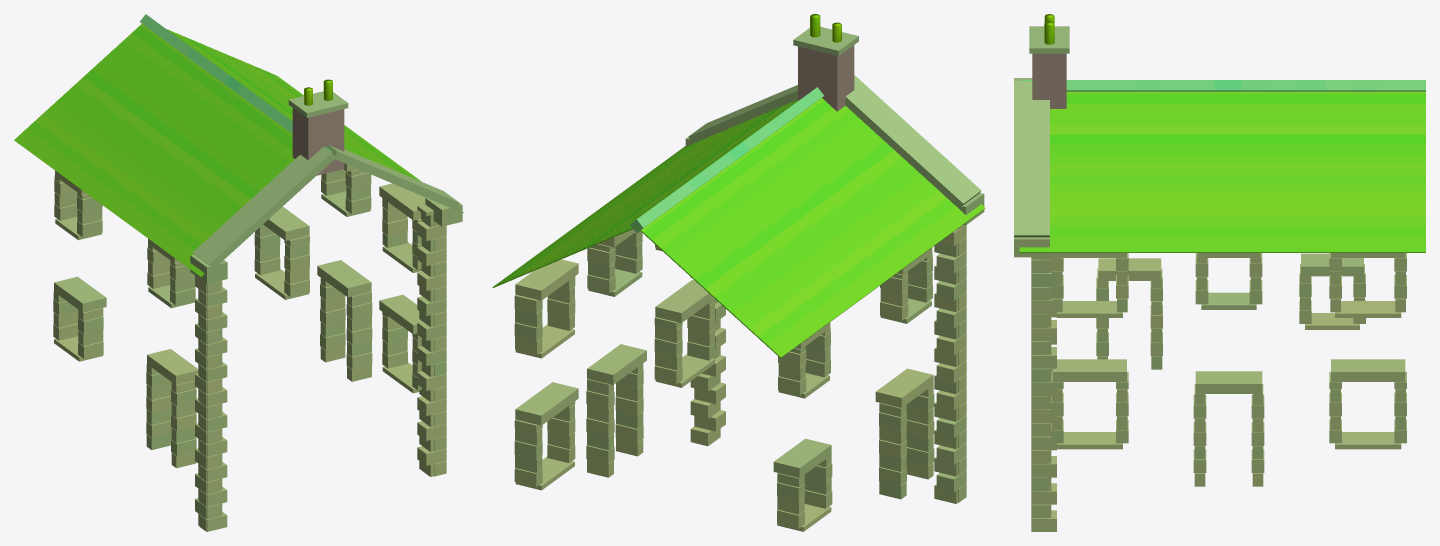
The model's file is SM_Bld_201_Stone.glb.
The picture shows the model from 3 angles, left to right: view 1: azimuth 30°, elevation 25°; view 2: azimuth 150°, elevation 25°; view 3: azimuth 270°, elevation 25°; orthographic projection. The views are drawn at different scales.
Parts seen in each view (by area): view 1: SM_Bld_201_Stone; view 2: SM_Bld_201_Stone; view 3: SM_Bld_201_Stone.
Boxes of the visible parts, box(x1,y1,x2,y2) form: SM_Bld_201_Stone: box(14, 14, 463, 531); SM_Bld_201_Stone: box(492, 14, 985, 531); SM_Bld_201_Stone: box(1014, 14, 1425, 531).
Size of the model in its own units: 6.62 by 9.92 by 8.23.
